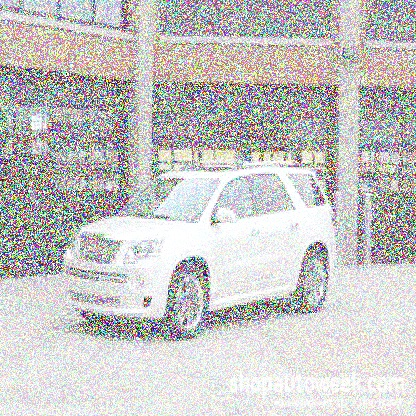Vehicle: (61, 159, 341, 347)
